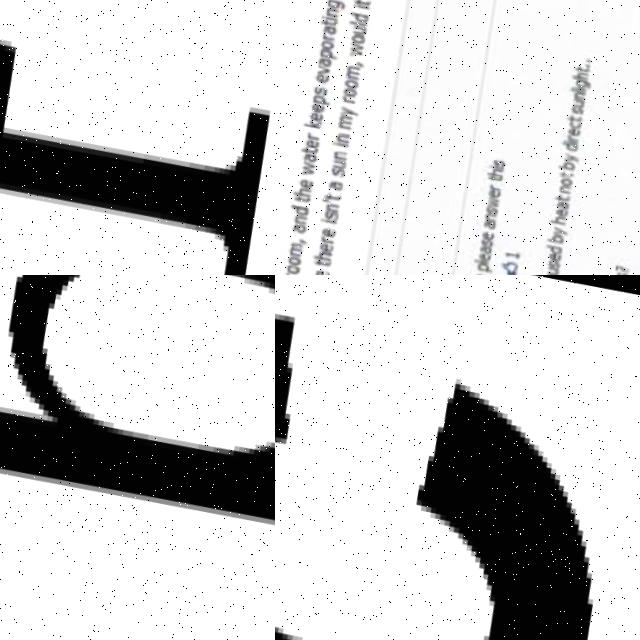1: (498, 250, 516, 261)
B: (0, 275, 275, 522)
C: (413, 384, 590, 640)
F: (0, 0, 275, 275)
